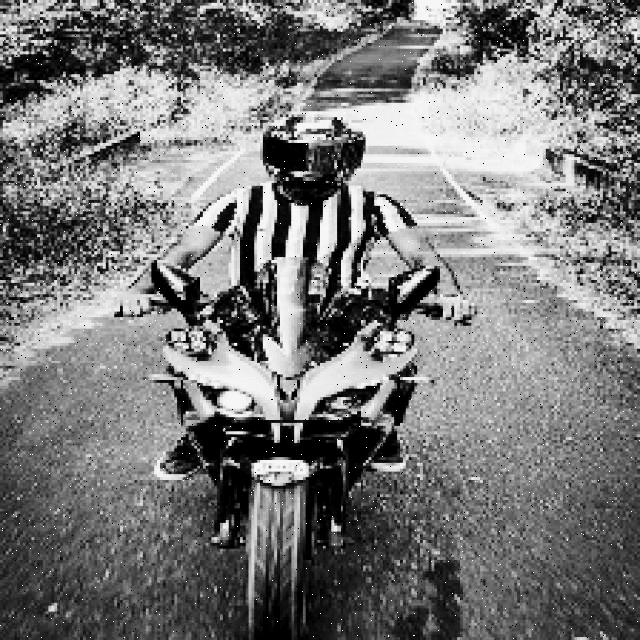Bike: (141, 259, 435, 634)
